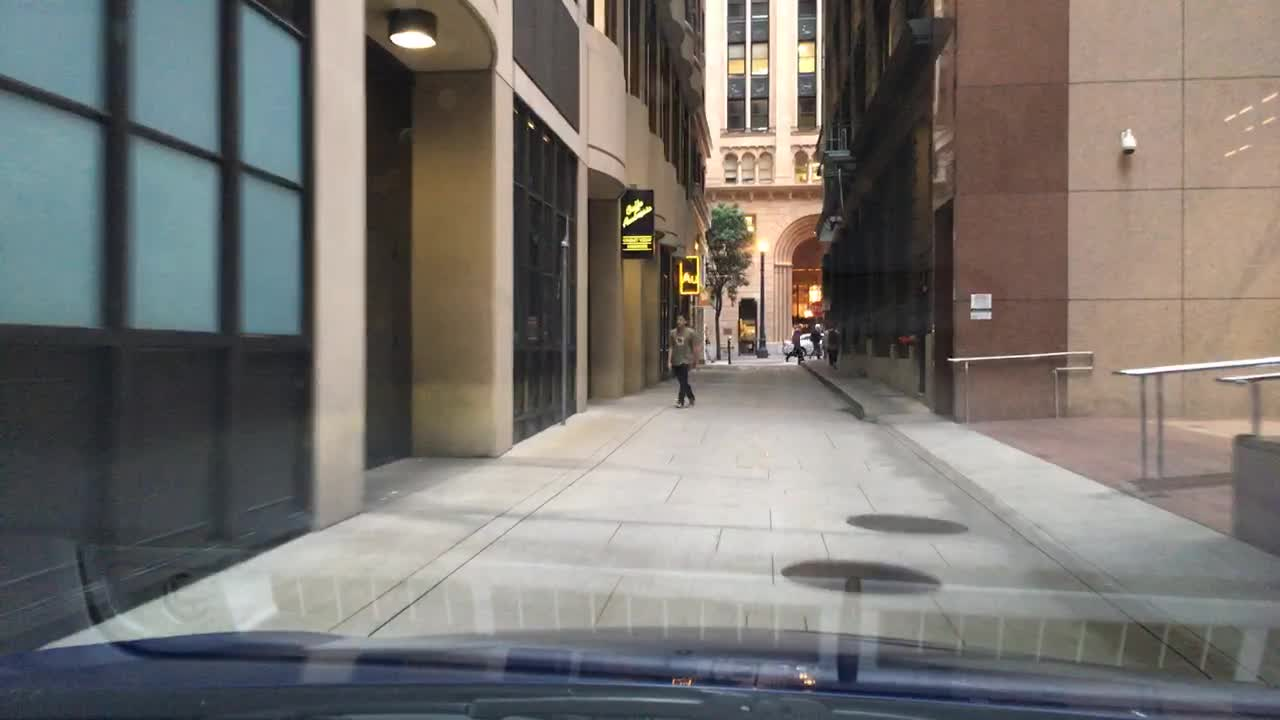car: (780, 327, 822, 359)
person: (666, 308, 702, 407), (782, 322, 806, 368), (825, 321, 840, 368), (810, 324, 823, 359)
